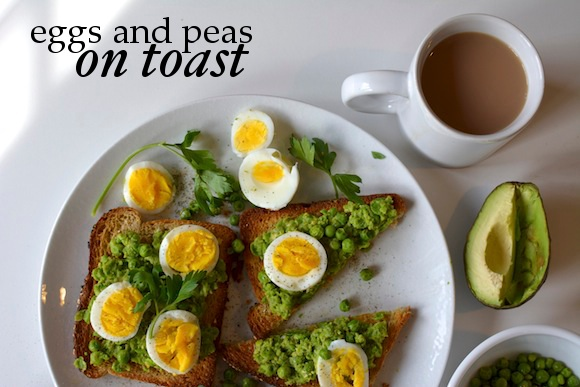boiled peas: (334, 209, 370, 248)
fried egg: (231, 118, 294, 205), (260, 230, 328, 286), (154, 314, 204, 365), (118, 171, 181, 211), (98, 284, 137, 333), (168, 234, 209, 276), (319, 351, 354, 377)
